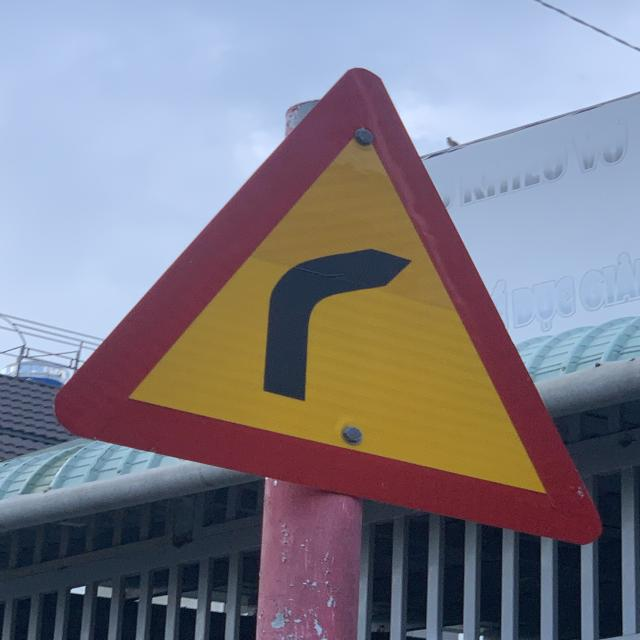Duong_Nguoi_Di_Bo_Cat_Ngang: (57, 66, 605, 544)
